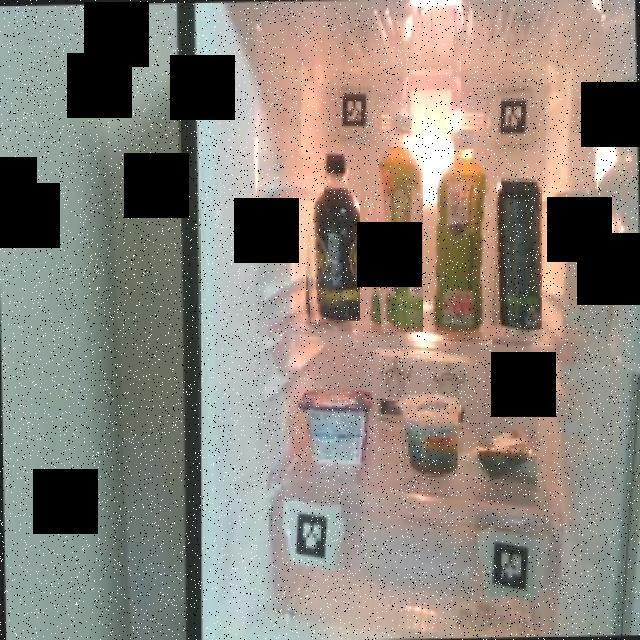bottle: (365, 108, 423, 332), (430, 120, 488, 332)
can: (487, 173, 542, 336)
coffee: (298, 148, 360, 322)
pudding: (396, 387, 458, 478)
rice_ball: (468, 427, 537, 495)
yogurt: (296, 384, 372, 474)
